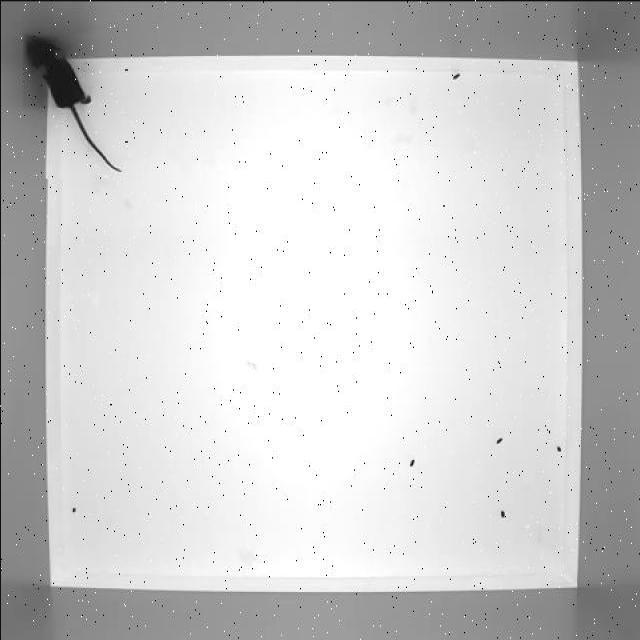rat: (24, 34, 128, 179)
